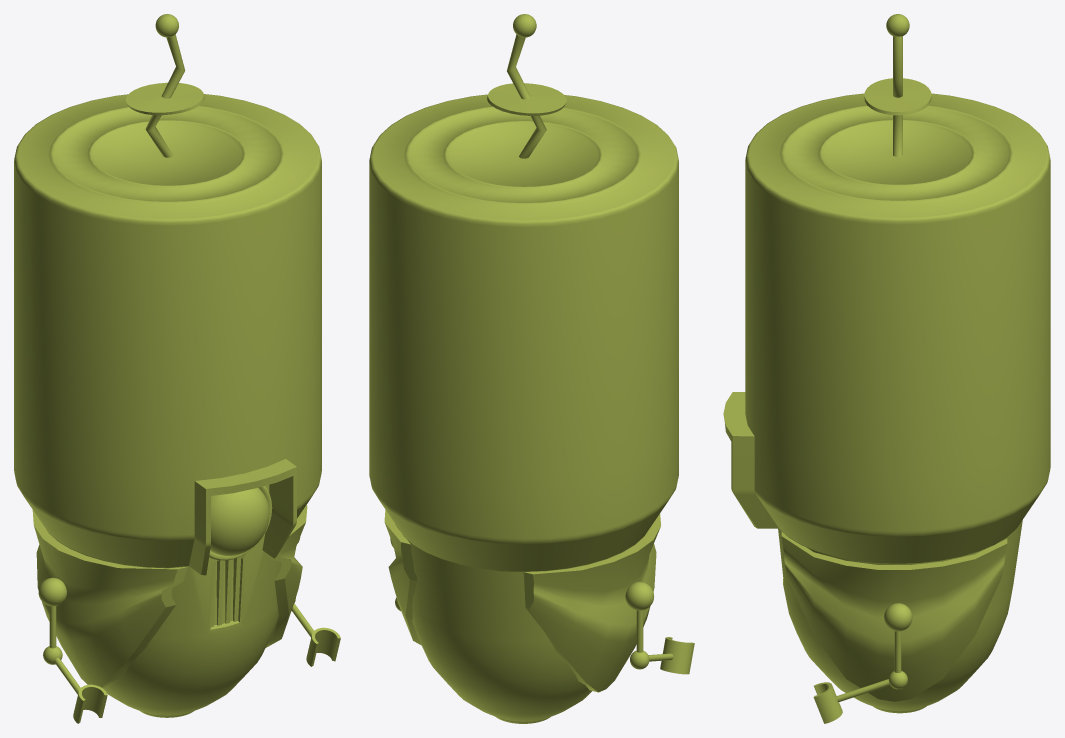
File: robotbase.FBX
The picture shows the model from 3 angles, left to right: view 1: azimuth 30°, elevation 25°; view 2: azimuth 150°, elevation 25°; view 3: azimuth 270°, elevation 25°; orthographic projection.
Parts seen in each view (by area): view 1: robot_low, side_low, arms_low, ant_low, eye_low, mouth_low; view 2: robot_low, side_low, ant_low, arms_low; view 3: robot_low, side_low, ant_low, arms_low.
Part boxes in pixels (left/top/right/bottom): robot_low: left=14, top=94, right=321, bottom=717; side_low: left=32, top=505, right=307, bottom=688; arms_low: left=38, top=537, right=340, bottom=723; ant_low: left=125, top=14, right=204, bottom=157; eye_low: left=210, top=487, right=269, bottom=555; mouth_low: left=210, top=556, right=241, bottom=627; robot_low: left=369, top=94, right=678, bottom=723; side_low: left=384, top=509, right=660, bottom=692; ant_low: left=487, top=14, right=566, bottom=158; arms_low: left=390, top=538, right=694, bottom=674; robot_low: left=723, top=93, right=1050, bottom=713; side_low: left=781, top=531, right=1007, bottom=701; ant_low: left=864, top=14, right=931, bottom=156; arms_low: left=813, top=603, right=912, bottom=723.
Size of the model in its own units: 29.39 by 72.97 by 31.49.
